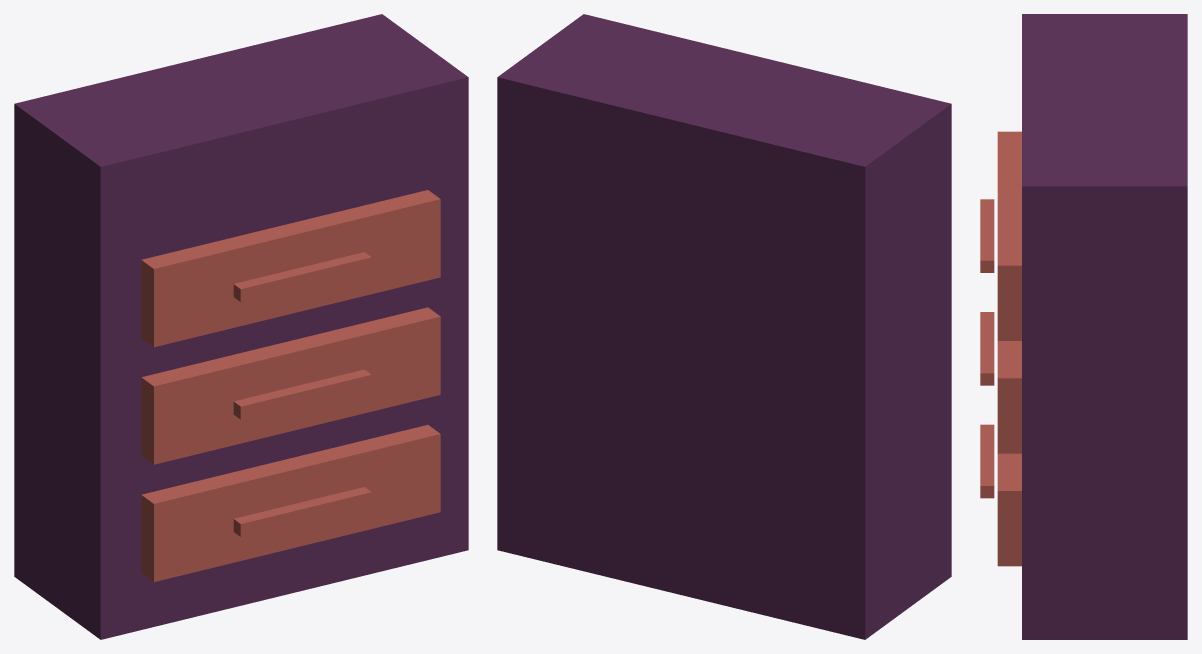
The model's file is file-cabinet.obj.
3 views of the same model, side by side, from view 1: azimuth 30°, elevation 25°; view 2: azimuth 150°, elevation 25°; view 3: azimuth 270°, elevation 25° (orthographic). The views are drawn at different scales.
Parts seen in each view (by area): view 1: storage-body, soft-drawer-0-42, soft-drawer-0-78, soft-drawer-1-14, drawer-pull-0-42, drawer-pull-1-14, drawer-pull-0-78; view 2: storage-body; view 3: storage-body, soft-drawer-1-14, soft-drawer-0-42, soft-drawer-0-78, drawer-pull-0-42, drawer-pull-0-78, drawer-pull-1-14.
Boxes of the visible parts, x1,y1,x2,y2 form: storage-body: [14, 14, 468, 639]; soft-drawer-0-42: [141, 425, 440, 581]; soft-drawer-0-78: [141, 307, 440, 464]; soft-drawer-1-14: [141, 190, 440, 347]; drawer-pull-0-42: [233, 487, 371, 536]; drawer-pull-1-14: [233, 252, 371, 301]; drawer-pull-0-78: [233, 369, 371, 419]; storage-body: [497, 14, 951, 639]; storage-body: [1022, 14, 1187, 639]; soft-drawer-1-14: [997, 131, 1021, 340]; soft-drawer-0-42: [997, 453, 1021, 566]; soft-drawer-0-78: [997, 341, 1021, 453]; drawer-pull-0-42: [980, 424, 994, 498]; drawer-pull-0-78: [980, 312, 994, 385]; drawer-pull-1-14: [980, 199, 994, 272].
Bounding box in the file's own units: 1.18 × 1.45 × 0.6.
